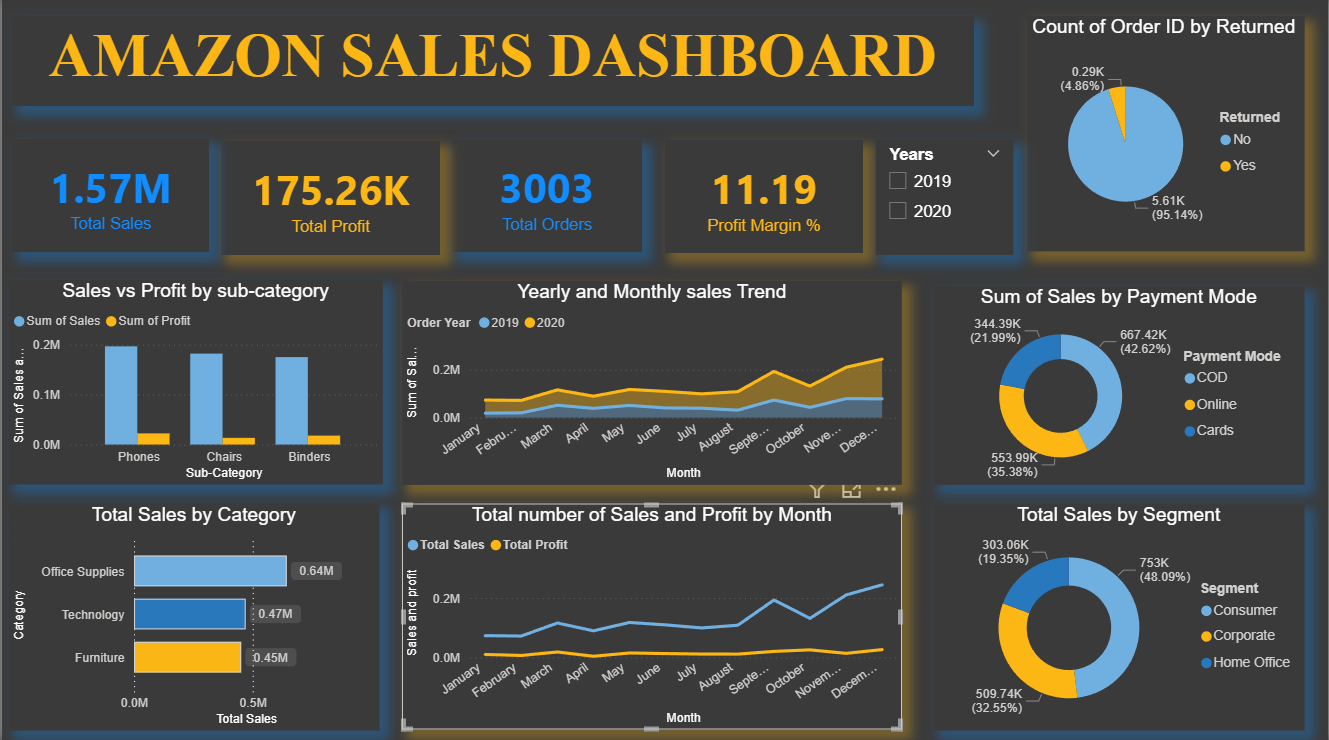

Layout of this report page (visuals, bound fields, positions):
{"tool":"powerbi","page":{"name":"Page 1","canvas":[1280,720],"ordinal":0},"visuals":[{"type":"card","fields":{"Values":["Sheet1.Total Sales"]},"box":[9.7,137.5,212.3,109.8],"z":0},{"type":"card","fields":{"Values":["Sheet1.Total Orders"]},"box":[480.2,137.5,218.4,108.6],"z":1000},{"type":"card","fields":{"Values":["Sheet1.Total Profit"]},"box":[246.1,137.5,208.7,109.8],"z":2000},{"type":"card","fields":{"Values":["Sheet1.Profit Margin %"]},"box":[721.5,137.5,230.4,109.8],"z":3000},{"type":"lineChart","title":"Total number of Sales and Profit by Month","fields":{"Y":["Sheet1.Total Sales","Sheet1.Total Profit"],"Category":["Sheet1.Order Date.Variation.Date Hierarchy.Month"]},"box":[386.1,489.8,482.6,218.4],"z":4000},{"type":"barChart","fields":{"Category":["Sheet1.Category"],"Y":["Sheet1.Total Sales"]},"box":[9.7,489.8,358.3,219.6],"z":5000},{"type":"donutChart","fields":{"Category":["Sheet1.Segment"],"Y":["Sheet1.Total Sales"]},"box":[898.8,488.6,358.3,219.6],"z":6000},{"type":"pieChart","fields":{"Y":["CountNonNull(Sheet1.Order ID)"],"Category":["Sheet1.Returned"]},"box":[989.3,19.3,267.8,226.8],"z":7000},{"type":"stackedAreaChart","fields":{"Category":["Sheet1.Order Date.Variation.Date Hierarchy.Month"],"Y":["Sum(Sheet1.Sales)"],"Series":["Sheet1.Order Year"]},"box":[386.1,275.1,482.6,196.6],"z":8000},{"type":"donutChart","fields":{"Y":["Sum(Sheet1.Sales)"],"Category":["Sheet1.Payment Mode"]},"box":[898.8,275.1,358.3,184.6],"z":9000},{"type":"clusteredColumnChart","fields":{"Category":["Sheet1.Sub-Category"],"Y":["Sum(Sheet1.Sales)","Sum(Sheet1.Profit)"]},"box":[6,273.9,361.9,197.9],"z":10000},{"type":"textbox","box":[9.7,19.3,927.8,86.9],"z":11000}]}

Visuals, with their boxes in screenshot pixels (x1, y1, x2, y2), scaled from the page's 1280x720 canvas onto the 1329x740 screenshot:
card - Sheet1.Total Sales: x1=10 y1=141 x2=230 y2=254
card - Sheet1.Total Orders: x1=499 y1=141 x2=725 y2=253
card - Sheet1.Total Profit: x1=256 y1=141 x2=472 y2=254
card - Sheet1.Profit Margin %: x1=749 y1=141 x2=988 y2=254
"Total number of Sales and Profit by Month" lineChart: x1=401 y1=503 x2=902 y2=728
barChart - Sheet1.Category x Sheet1.Total Sales: x1=10 y1=503 x2=382 y2=729
donutChart - Sheet1.Segment x Sheet1.Total Sales: x1=933 y1=502 x2=1305 y2=728
pieChart - CountNonNull(Sheet1.Order ID) x Sheet1.Returned: x1=1027 y1=20 x2=1305 y2=253
stackedAreaChart - Sheet1.Order Date.Variation.Date Hierarchy.Month x Sum(Sheet1.Sales): x1=401 y1=283 x2=902 y2=485
donutChart - Sum(Sheet1.Sales) x Sheet1.Payment Mode: x1=933 y1=283 x2=1305 y2=472
clusteredColumnChart - Sheet1.Sub-Category x Sum(Sheet1.Sales): x1=6 y1=282 x2=382 y2=485
textbox: x1=10 y1=20 x2=973 y2=109
